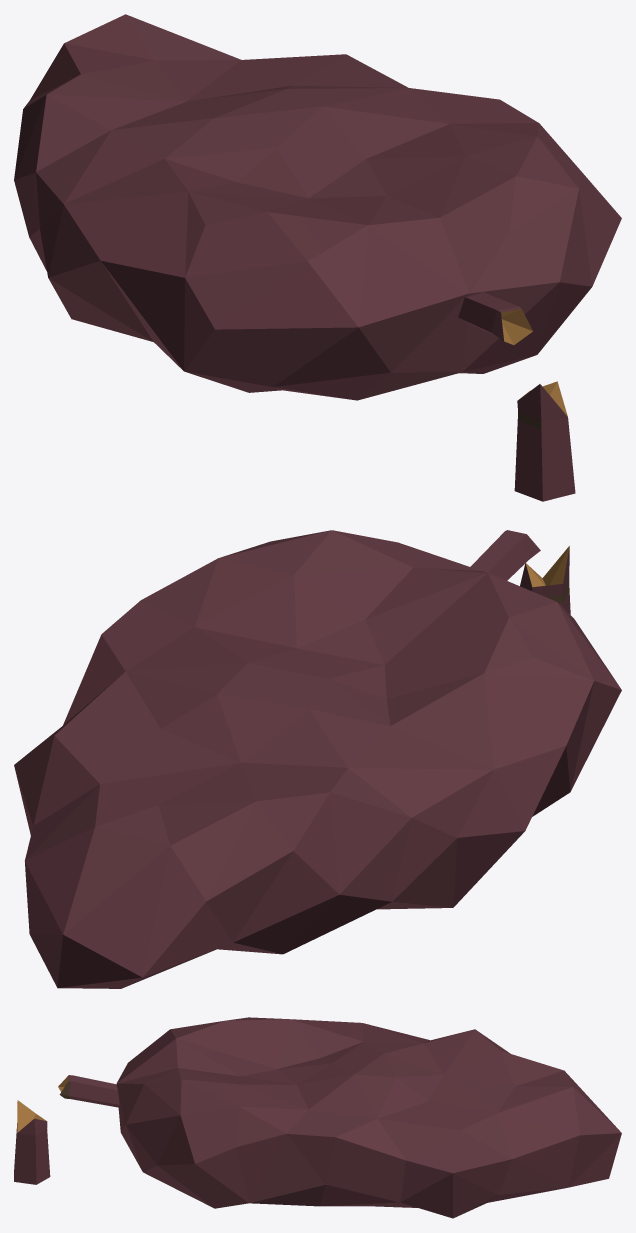
Rendered from tree-birch-broken.fbx.
The picture shows the model from 3 angles, top to bottom: view 1: azimuth 30°, elevation 25°; view 2: azimuth 150°, elevation 25°; view 3: azimuth 270°, elevation 25°; orthographic projection. The views are drawn at different scales.
Visible parts, largest first — view 1: tree-birch-broken; view 2: tree-birch-broken; view 3: tree-birch-broken.
Part boxes in pixels (box(x1,y1,x2,y2)): tree-birch-broken: box(14, 14, 621, 501); tree-birch-broken: box(14, 530, 621, 988); tree-birch-broken: box(14, 1017, 621, 1218).
Size of the model in its own units: 3.26 by 1.43 by 6.14.
